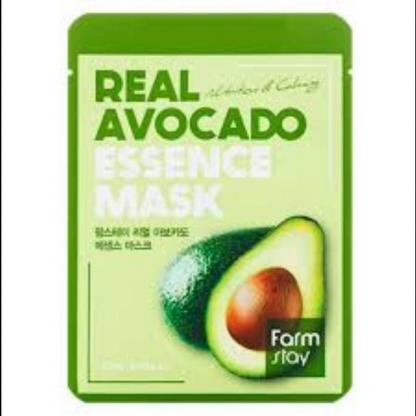avocado: (225, 212, 336, 376), (149, 216, 279, 331)
